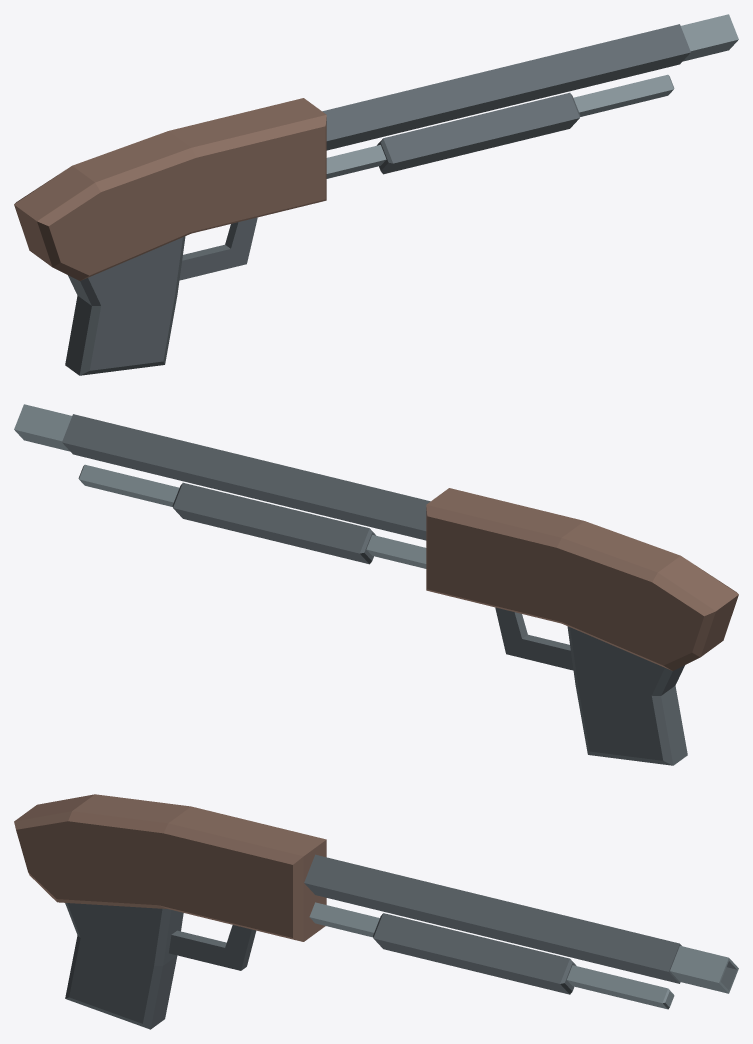
The model's file is shotgun.glb.
3 views of the same model, one above another, from view 1: azimuth 30°, elevation 25°; view 2: azimuth 150°, elevation 25°; view 3: azimuth 330°, elevation 25° (orthographic).
Parts seen in each view (by area): view 1: body, reloader; view 2: body, reloader; view 3: body, reloader.
Boxes of the visible parts, x1,y1,x2,y2 form: body: (14, 14, 738, 375); reloader: (377, 92, 580, 174); body: (14, 404, 738, 765); reloader: (172, 482, 375, 564); body: (14, 794, 738, 1029); reloader: (373, 913, 576, 994).
Bounding box in the file's own units: 0.6461 × 0.1886 × 0.0521.
